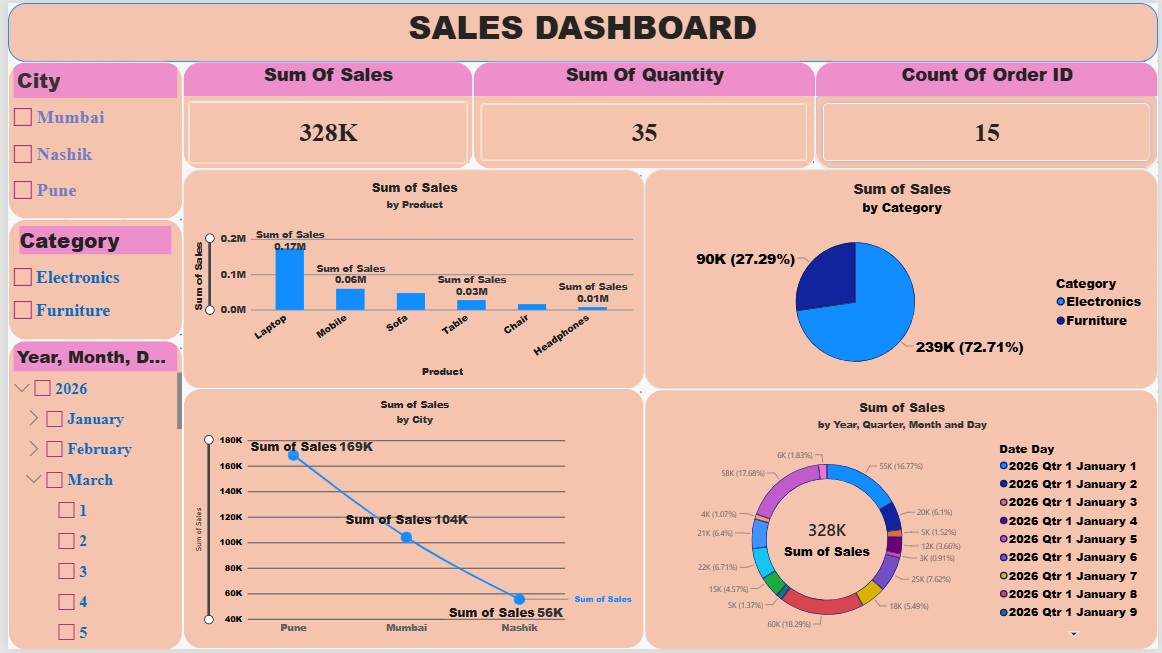

This screenshot's page, from the dashboard's own definition file:
{"tool":"powerbi","page":{"name":"Page 1","canvas":[1920,1080],"ordinal":0},"visuals":[{"type":"textbox","box":[0,0,1920,98.1],"z":0},{"type":"slicer","fields":{"Values":["Sheet1.City"]},"box":[0,98.1,292.2,263],"z":1000},{"type":"slicer","fields":{"Values":["Sheet1.Category"]},"box":[0,361,292.2,202.4],"z":2000},{"type":"slicer","fields":{"Values":["Sheet1.Date.Variation.Date Hierarchy.Year","Sheet1.Date.Variation.Date Hierarchy.Month","Sheet1.Date.Variation.Date Hierarchy.Day"]},"box":[0,563.5,292.2,517.6],"z":3000},{"type":"cardVisual","title":"Sum Of Sales","fields":{"Data":["Sum(Sheet1.Sales)"]},"box":[292.2,98.1,484.2,179.5],"z":4000},{"type":"cardVisual","title":"Sum Of Quantity","fields":{"Data":["Sum(Sheet1.Quantity)"]},"box":[776.3,98.1,571.8,179.5],"z":5000},{"type":"cardVisual","title":"Count Of Order ID","fields":{"Data":["CountNonNull(Sheet1.Order ID)"]},"box":[1348.2,98.1,571.8,179.5],"z":6000},{"type":"clusteredColumnChart","fields":{"Category":["Sheet1.Product"],"Y":["Sum(Sheet1.Sales)"]},"box":[292.2,277.6,770.1,367.3],"z":7000},{"type":"pieChart","fields":{"Category":["Sheet1.Category"],"Y":["Sum(Sheet1.Sales)"]},"box":[1062.3,277.6,857.7,367.3],"z":8000},{"type":"lineChart","fields":{"Category":["Sheet1.City"],"Y":["Sum(Sheet1.Sales)"]},"box":[292.2,642.8,770.1,436.2],"z":9000},{"type":"donutChart","fields":{"Category":["Sheet1.Date.Variation.Date Hierarchy.Year","Sheet1.Date.Variation.Date Hierarchy.Quarter","Sheet1.Date.Variation.Date Hierarchy.Month","Sheet1.Date.Variation.Date Hierarchy.Day"],"Y":["Sum(Sheet1.Sales)"]},"box":[1062,645,858,435],"z":10000}]}

Visuals, with their boxes in screenshot pixels (x1, y1, x2, y2), scaled from the page's 1920x1080 canvas onto the 1162x653 screenshot:
textbox: Rect(0, 0, 1161, 59)
slicer - Sheet1.City: Rect(0, 59, 177, 218)
slicer - Sheet1.Category: Rect(0, 218, 177, 341)
slicer - Sheet1.Date.Variation.Date Hierarchy.Year x Sheet1.Date.Variation.Date Hierarchy.Month: Rect(0, 341, 177, 652)
"Sum Of Sales" cardVisual: Rect(177, 59, 470, 168)
"Sum Of Quantity" cardVisual: Rect(470, 59, 816, 168)
"Count Of Order ID" cardVisual: Rect(816, 59, 1161, 168)
clusteredColumnChart - Sheet1.Product x Sum(Sheet1.Sales): Rect(177, 168, 643, 390)
pieChart - Sheet1.Category x Sum(Sheet1.Sales): Rect(643, 168, 1161, 390)
lineChart - Sheet1.City x Sum(Sheet1.Sales): Rect(177, 389, 643, 652)
donutChart - Sheet1.Date.Variation.Date Hierarchy.Year x Sheet1.Date.Variation.Date Hierarchy.Quarter: Rect(643, 390, 1161, 652)
